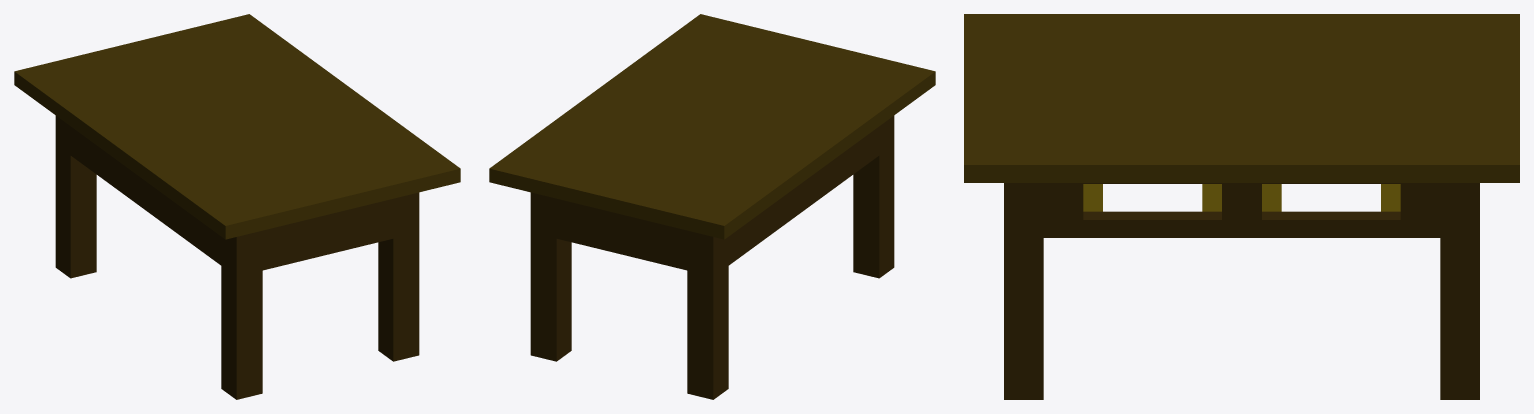
The model's file is Desk00-Frame.gltf.
3 renders of one model, left to right at view 1: azimuth 30°, elevation 25°; view 2: azimuth 150°, elevation 25°; view 3: azimuth 270°, elevation 25°, orthographic. The views are drawn at different scales.
Parts seen in each view (by area): view 1: top, Layer.2, leg, leg.1, leg.3; view 2: top, Layer.2, leg.3, leg.2, leg; view 3: top, Layer.2, leg.1, leg.2.
Part boxes in pixels (bbox=[...]): top: bbox=[14, 14, 460, 239]; Layer.2: bbox=[70, 126, 393, 270]; leg: bbox=[221, 230, 262, 399]; leg.1: bbox=[378, 192, 419, 361]; leg.3: bbox=[55, 115, 96, 278]; top: bbox=[489, 14, 935, 239]; Layer.2: bbox=[556, 126, 879, 270]; leg.3: bbox=[687, 230, 728, 399]; leg.2: bbox=[530, 192, 571, 361]; leg: bbox=[853, 115, 894, 278]; top: bbox=[964, 14, 1519, 182]; Layer.2: bbox=[1043, 183, 1440, 237]; leg.1: bbox=[1004, 183, 1043, 399]; leg.2: bbox=[1440, 183, 1479, 399].
Size of the model in its own units: 18 by 14 by 28.
